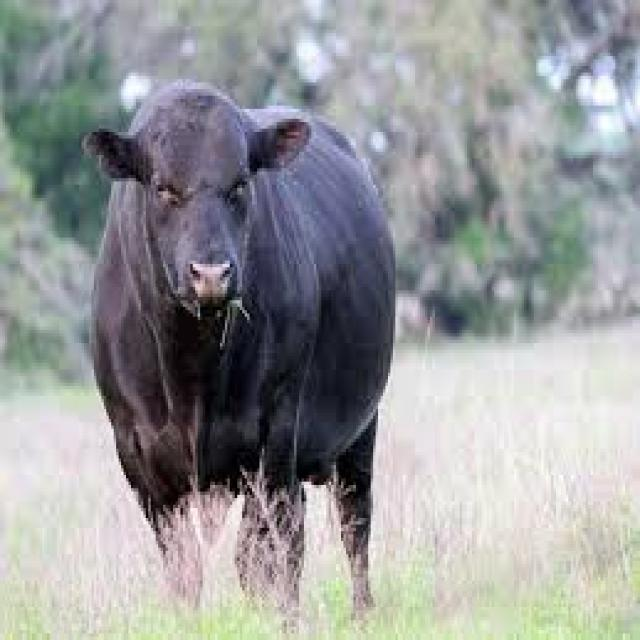cowFace: (74, 53, 304, 373)
